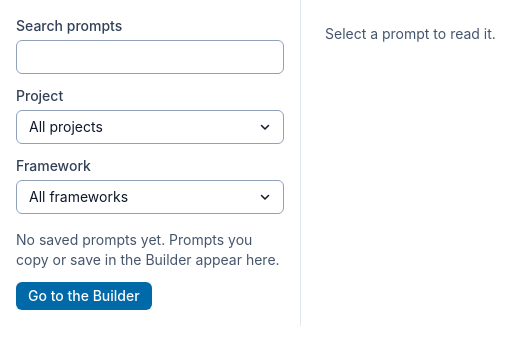
it: HistoryView list pane › filtering_by_a_deleted_framework_lists_its_entries
Click the dropdown labelled "framework" at (79, 196), box [16, 180, 284, 214]
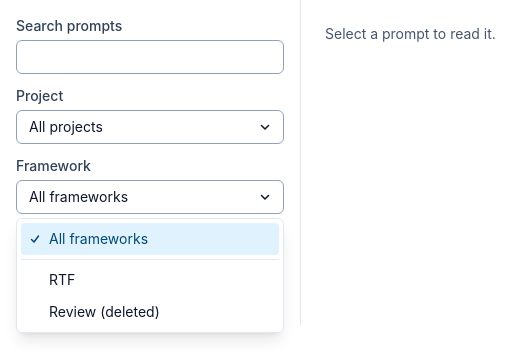
Click the option "Review (deleted)" at (104, 312), box [49, 303, 160, 320]
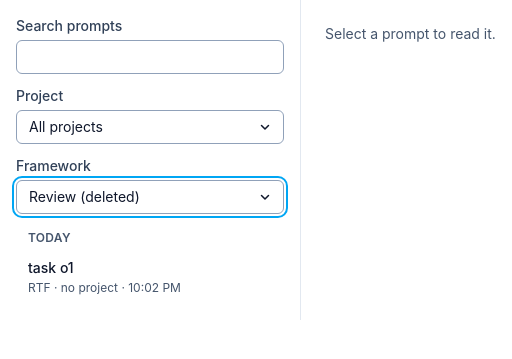
Expected: the text "task o1" is shown, [28, 258, 74, 278]
